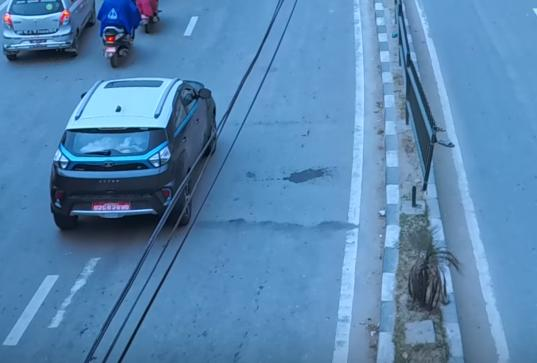car: (50, 67, 222, 231)
scooter: (93, 11, 139, 71)
